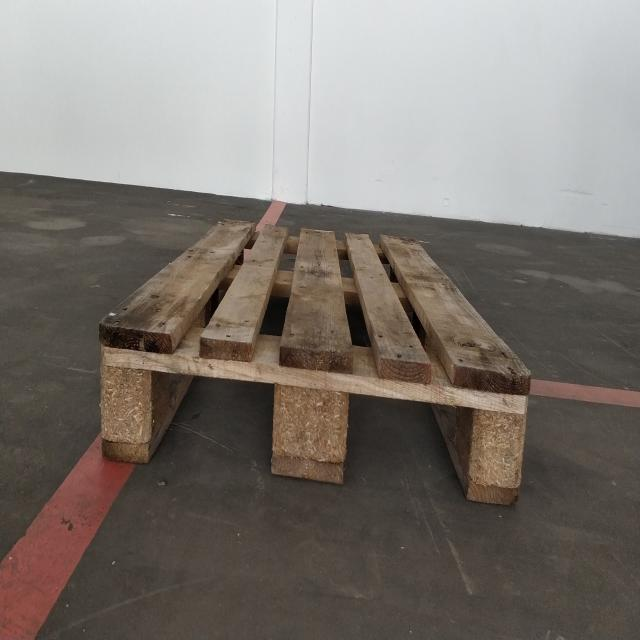block: (267, 344, 348, 488), (96, 319, 158, 465), (467, 369, 532, 504)
front: (95, 317, 528, 510)
